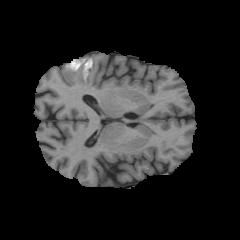glioma: (57, 54, 96, 86)
